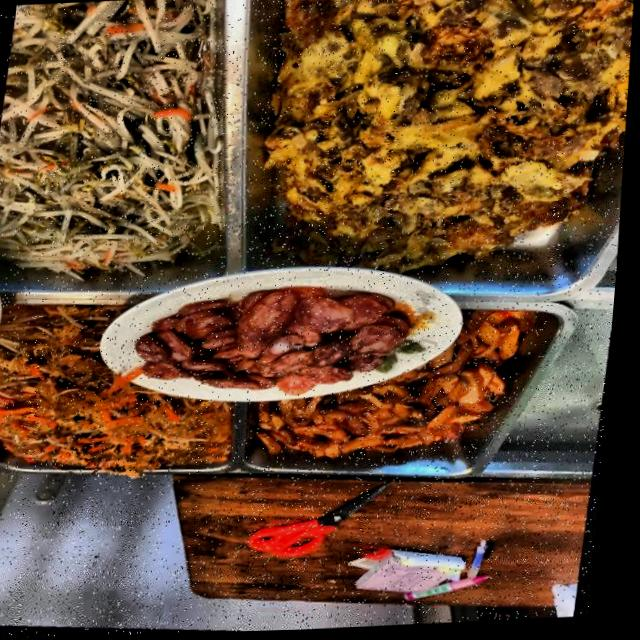Food: (0, 0, 232, 280), (159, 291, 408, 393)
